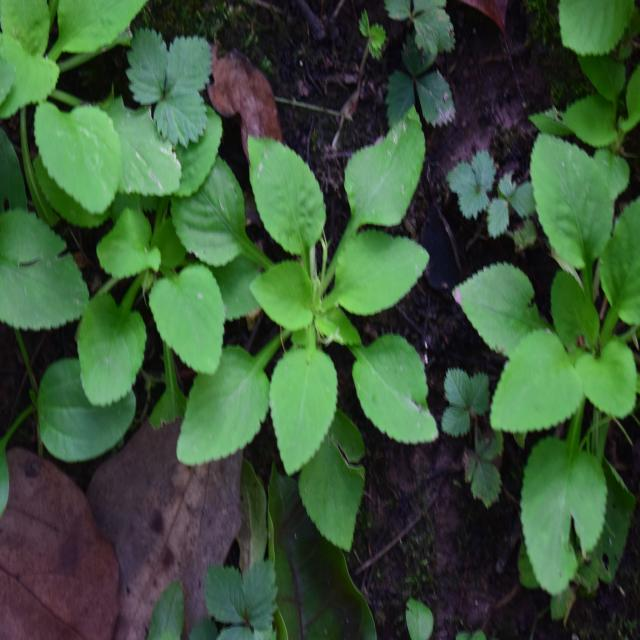Viola: (183, 123, 471, 524)
